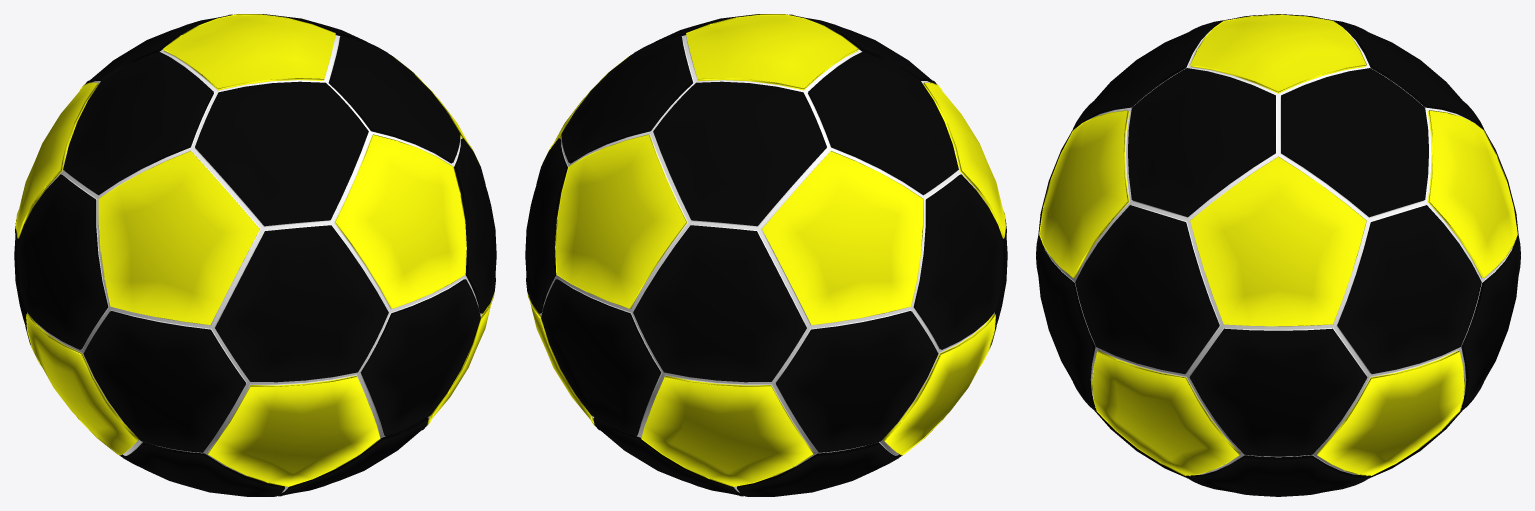
Rendered from football.glb.
3 views of the same model, side by side, from view 1: azimuth 30°, elevation 25°; view 2: azimuth 150°, elevation 25°; view 3: azimuth 270°, elevation 25° (orthographic).
Visible parts, largest first — view 1: Football; view 2: Football; view 3: Football.
Part boxes in pixels (<box>): Football: <box>14,14,496,496</box>; Football: <box>525,14,1007,496</box>; Football: <box>1036,14,1520,496</box>.
Size of the model in its own units: 1.68 by 1.68 by 1.69.
